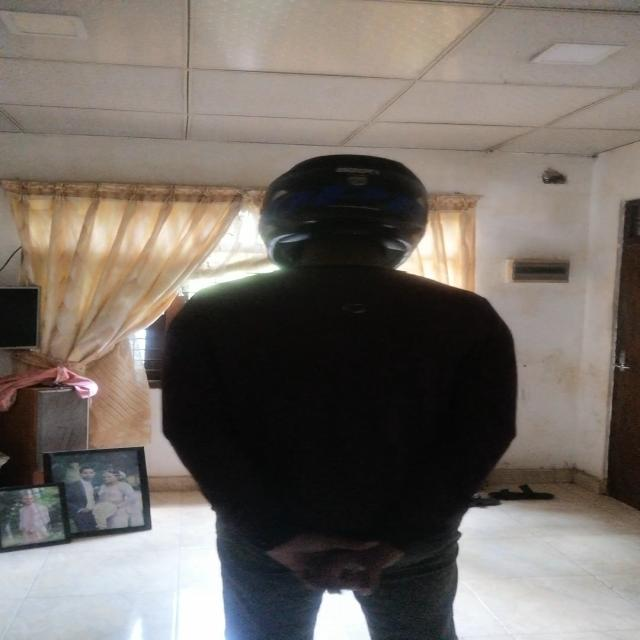Helmet_Wearer: (230, 148, 453, 270)
Person: (165, 152, 514, 626)
